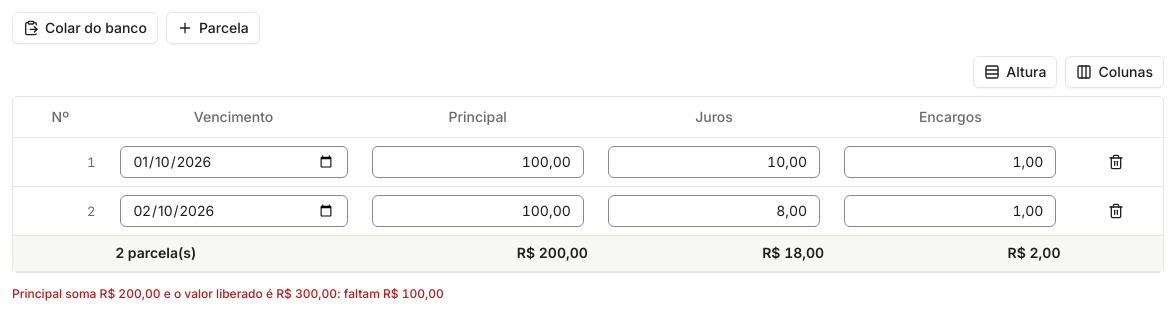
Test: CronogramaEditor › tira a parcela pelo botão da linha
The width and height of the screenshot is (1176, 318).
Step 1. Click the button named "Tirar a parcela 1" → (1116,162), box top-left (1102, 148), bottom-right (1130, 176)
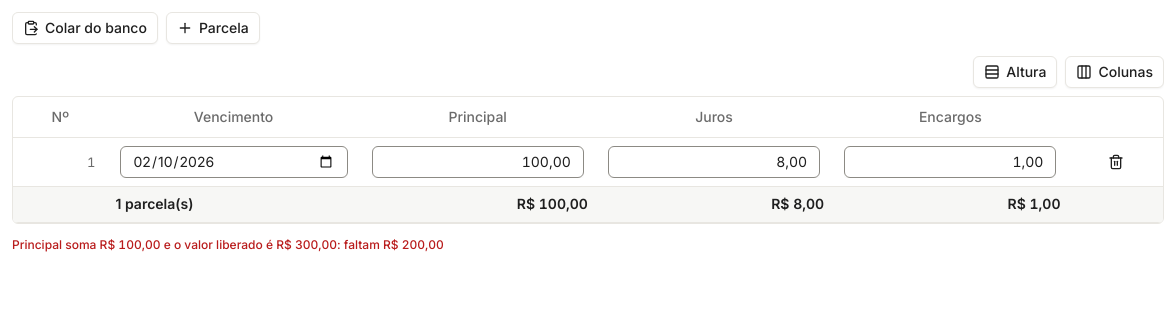
Expected: the text "1 parcela(s)" is shown, top-left (116, 195), bottom-right (193, 212)
Expected: the date field named "Vencimento da parcela 1" holds "2026-02-10", top-left (120, 146), bottom-right (348, 178)
